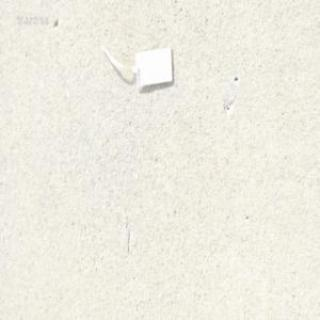LuggageTagtrack_idkeyframe: (96, 44, 174, 92)
